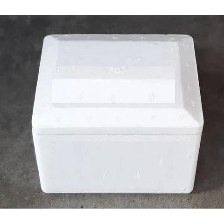foam_box: (25, 25, 210, 201)
